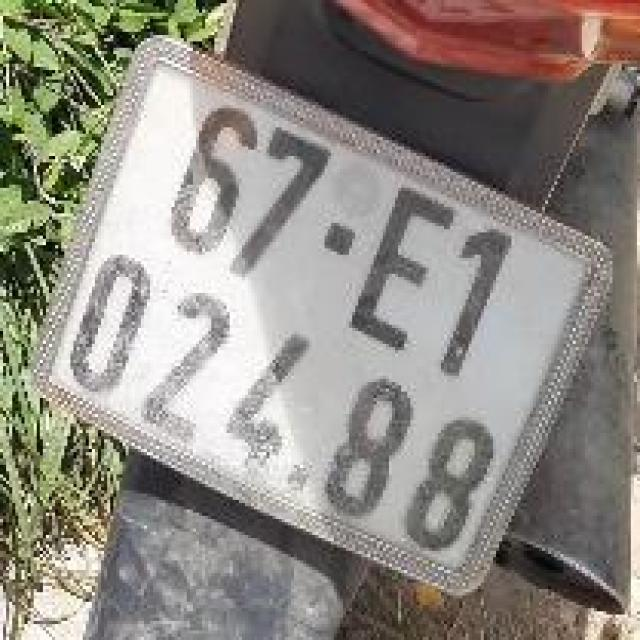0: (58, 244, 170, 409)
1: (412, 211, 538, 394)
2: (128, 279, 252, 453)
4: (211, 311, 335, 486)
6: (157, 96, 274, 269)
7: (213, 119, 342, 301)
8: (386, 394, 517, 564), (310, 357, 431, 527)
E: (342, 173, 468, 361)
